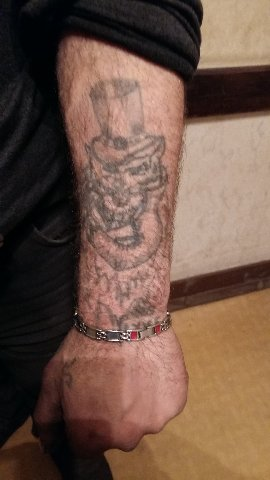tatu8_kot: (67, 75, 171, 324)
